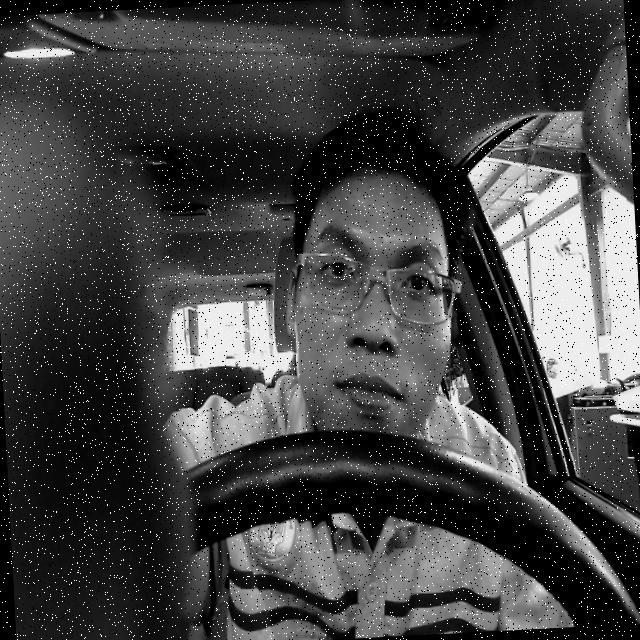focused: (278, 158, 459, 434)
